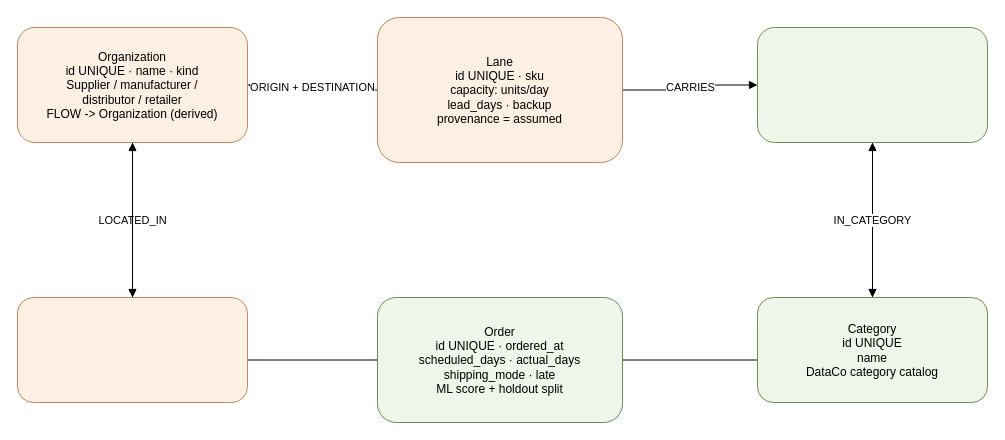
The diagram is 1005 pixels wide and 440 high, and some of its shapes have lost their labels. Each missing label, with the box of its shape:
Location id UNIQUE name · country scenario facility coordinates: (16, 296, 248, 402)
Product id UNIQUE · category_id name · price daily_demand (derived): (756, 26, 988, 142)
